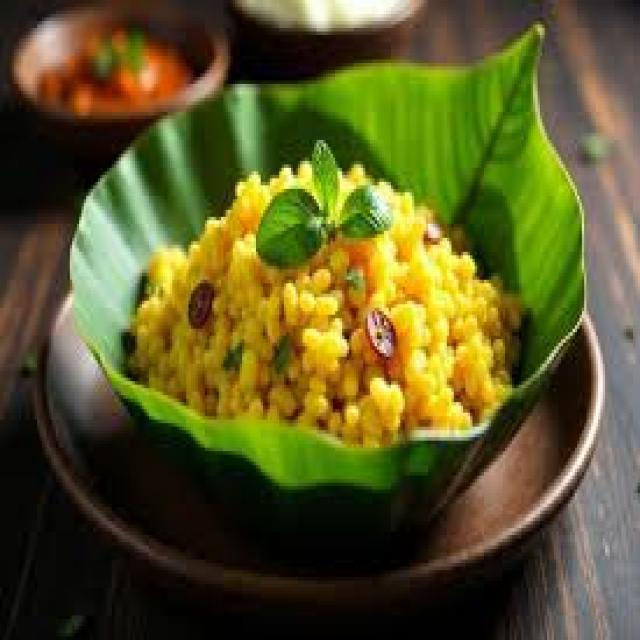UPMA: (119, 140, 521, 444)
